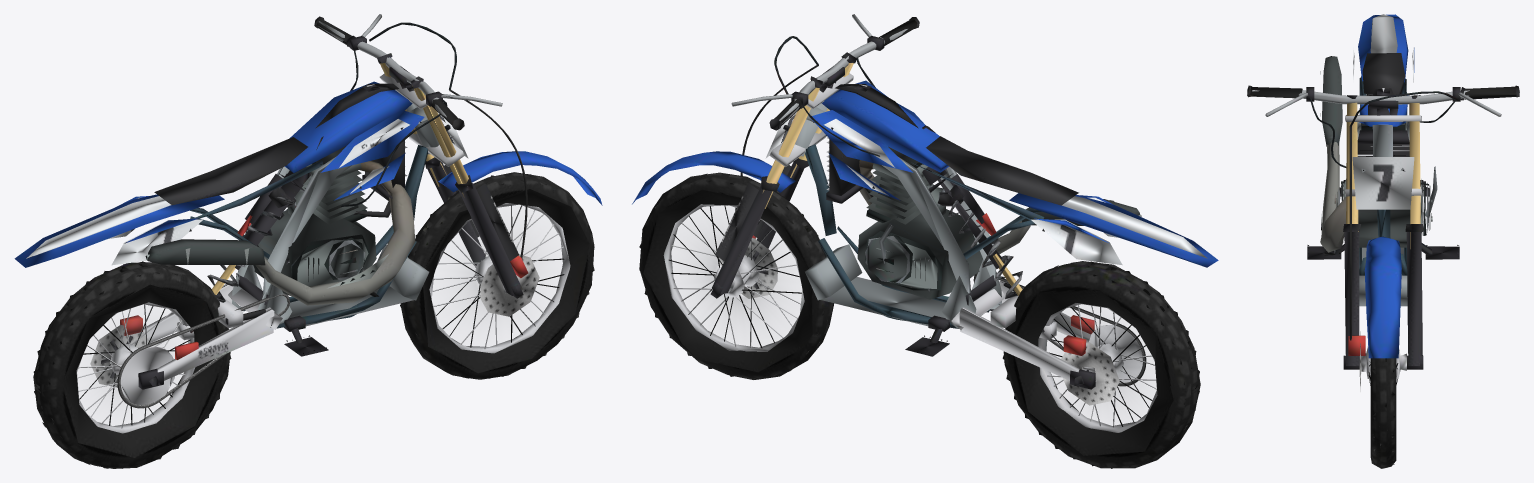
File: bike-rookie-lod.glb
3 renders of one model, left to right at view 1: azimuth 30°, elevation 25°; view 2: azimuth 150°, elevation 25°; view 3: azimuth 270°, elevation 25°, orthographic. The views are drawn at different scales.
Visible parts, largest first — view 1: wheel_rear, bodywork, wheel_front, frame, engine, exhaust, fork_lower, swingarm, handlebar, fork_upper, sprocket_rear, wheel_front_spokes (+7 smaller); view 2: wheel_rear, bodywork, wheel_front, frame, engine, fork_lower, swingarm, handlebar, wheel_front_blur, fork_upper, wheel_front_spokes, shock_body (+7 smaller); view 3: fork_lower, fork_upper, bodywork, handlebar, wheel_front, exhaust, frame, engine, pegs, brake_hose.
Boxes of the visible parts, bbox=[...] form: wheel_rear: bbox=[33, 261, 231, 468]; bodywork: bbox=[14, 81, 424, 267]; wheel_front: bbox=[400, 172, 594, 379]; frame: bbox=[190, 103, 439, 331]; engine: bbox=[253, 136, 378, 296]; exhaust: bbox=[145, 161, 415, 305]; fork_lower: bbox=[425, 151, 602, 298]; swingarm: bbox=[120, 280, 282, 389]; handlebar: bbox=[314, 14, 502, 206]; fork_upper: bbox=[377, 53, 468, 197]; sprocket_rear: bbox=[120, 347, 174, 404]; wheel_front_spokes: bbox=[432, 205, 564, 348]; wheel_rear: bbox=[1002, 261, 1200, 468]; bodywork: bbox=[810, 80, 1218, 267]; wheel_front: bbox=[639, 172, 834, 379]; frame: bbox=[795, 103, 1044, 331]; engine: bbox=[857, 125, 982, 299]; fork_lower: bbox=[632, 151, 808, 298]; swingarm: bbox=[951, 281, 1095, 389]; handlebar: bbox=[731, 14, 923, 236]; wheel_front_blur: bbox=[695, 232, 777, 320]; fork_upper: bbox=[763, 52, 857, 208]; wheel_front_spokes: bbox=[668, 205, 801, 348]; shock_body: bbox=[922, 167, 1004, 269]; fork_lower: bbox=[1343, 224, 1423, 369]; fork_upper: bbox=[1345, 95, 1421, 248]; bodywork: bbox=[1353, 14, 1414, 126]; handlebar: bbox=[1247, 85, 1519, 185]; wheel_front: bbox=[1359, 331, 1406, 468]; exhaust: bbox=[1320, 56, 1346, 252]; frame: bbox=[1357, 76, 1409, 306]; engine: bbox=[1324, 95, 1437, 255]; pegs: bbox=[1307, 243, 1459, 259]; brake_hose: bbox=[1349, 126, 1351, 340].
Size of the model in its own units: 2.06 by 1.2 by 0.8748.
Materials: 4 (4 with a texture image).
